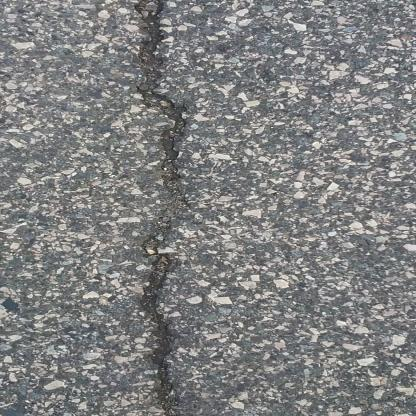Cracks: (117, 0, 250, 416)
